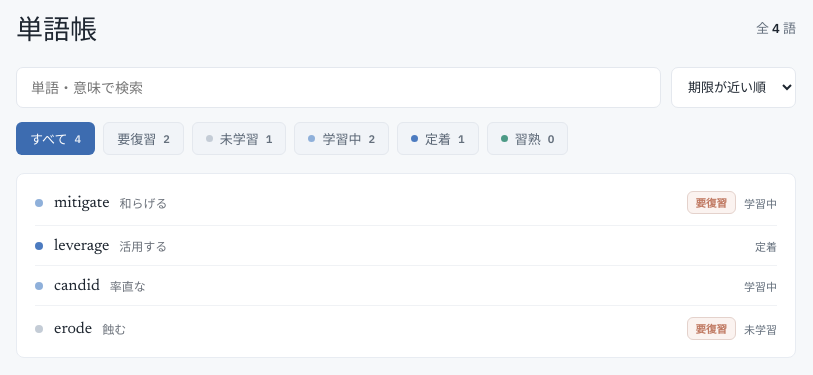
<WordbookScreen/> › shows an empty state when nothing matches
Click the button with test id "filter-Mastered". click: (528, 138)
box: top-left (487, 122), bottom-right (568, 155)
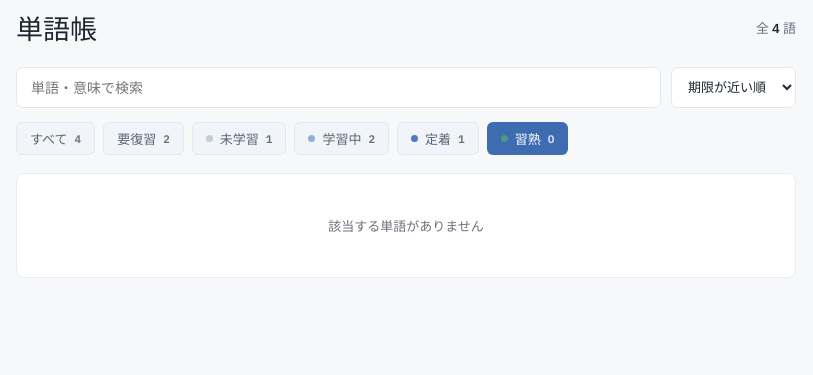
Expected: the text "該当する単語がありません" is shown, top-left (328, 218), bottom-right (484, 235)
